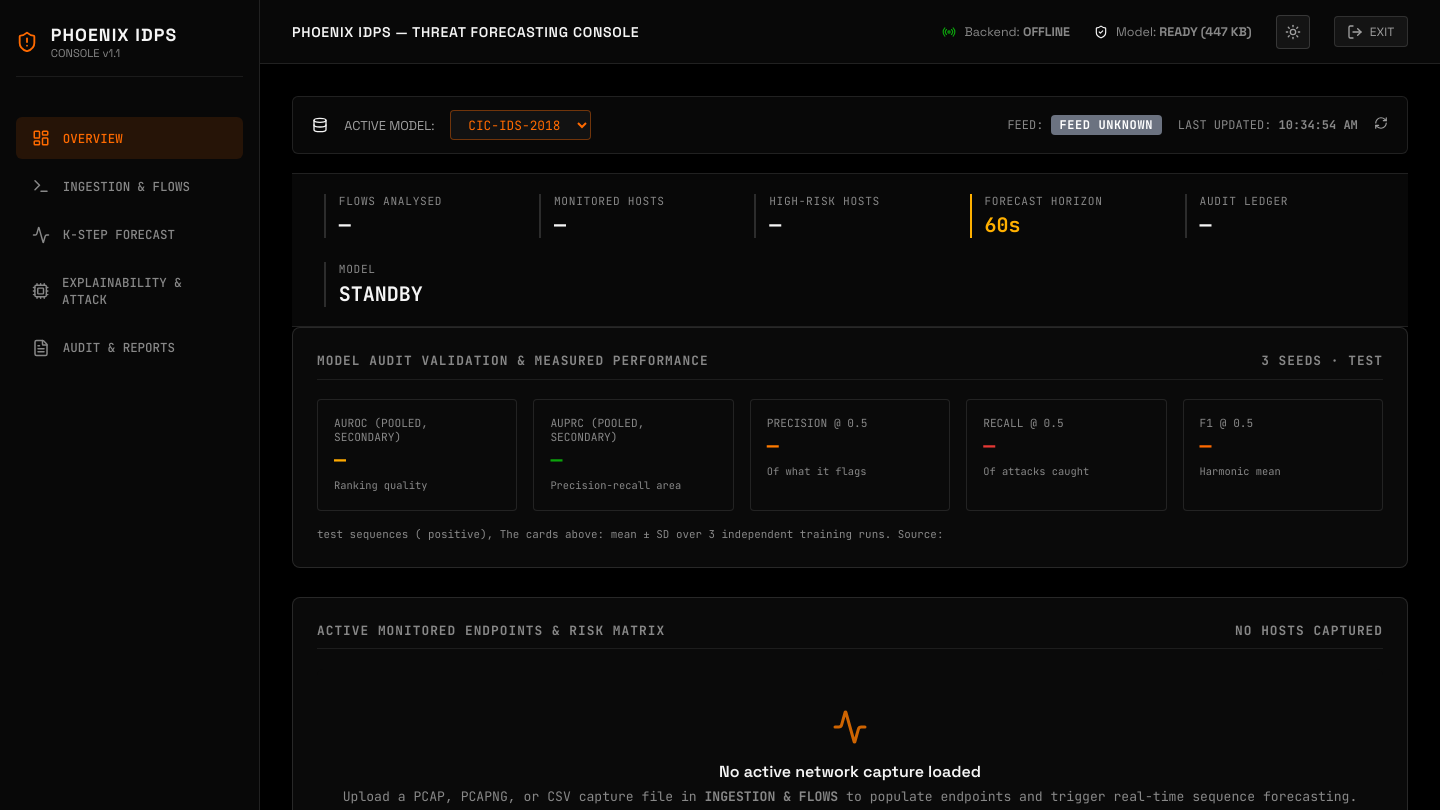
Test: ACTIVE MODEL selector › keeps the previous model and shows an error banner when a switch fails
Select "UNSW-NB15" in the dropdown at (521, 125), box [450,110,591,140]
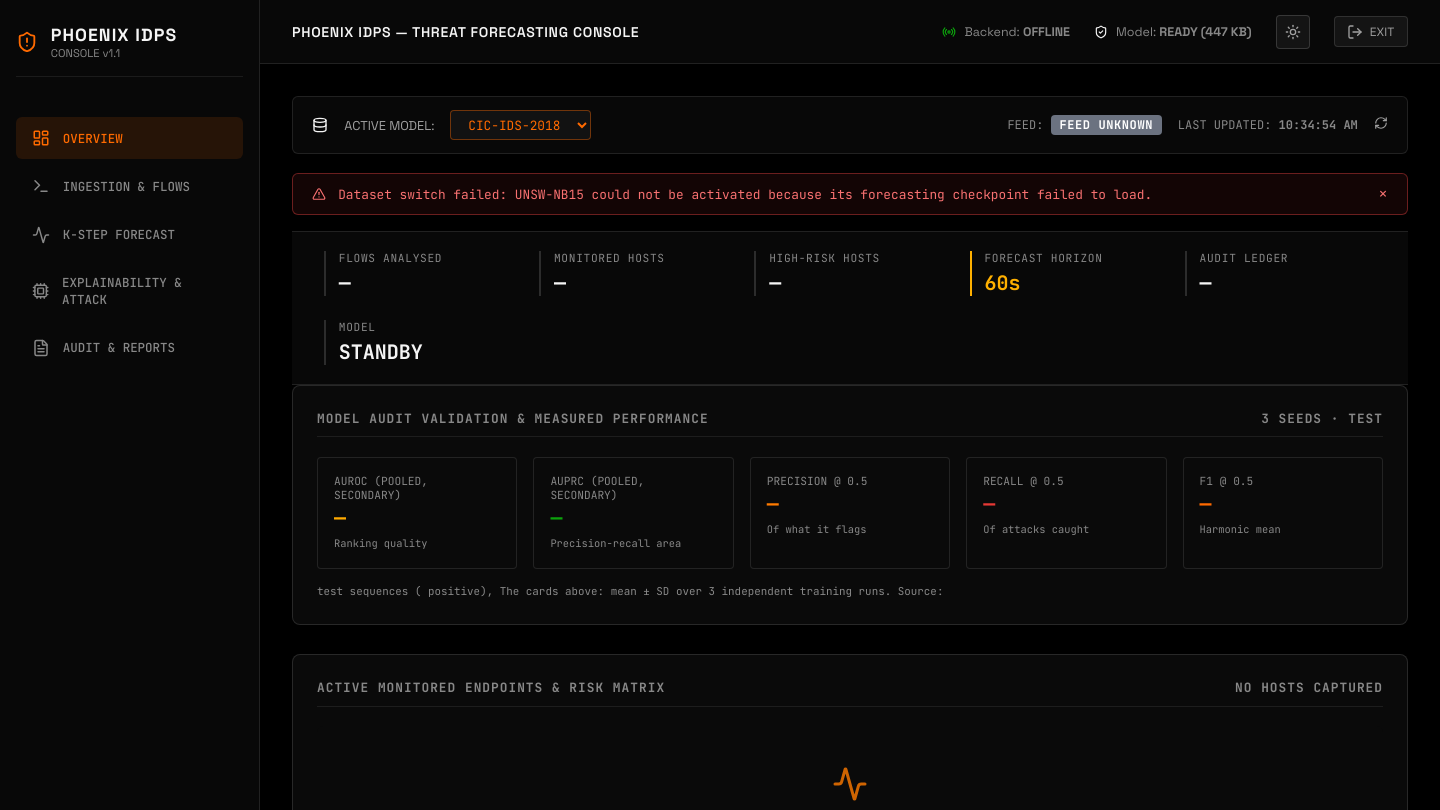
Expected: the text "could not be activated" is shown, [515,186,1152,203]
